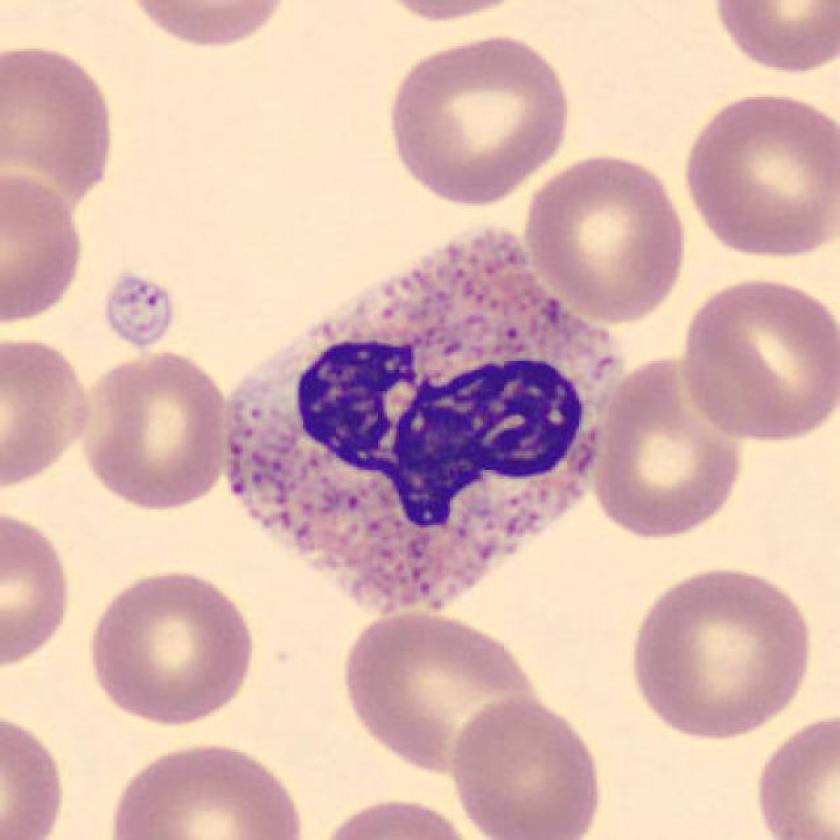neutrophil: (223, 229, 628, 614)
